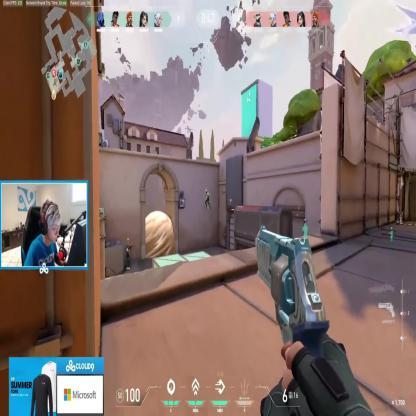enemy: (204, 188, 210, 210)
enemy_head: (206, 188, 208, 193)
